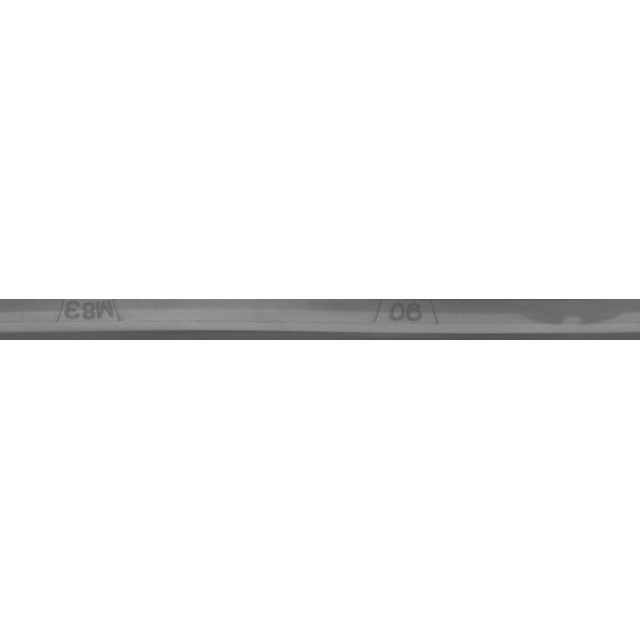mohao: (0, 270, 186, 370)
xuehao: (306, 270, 506, 370)
